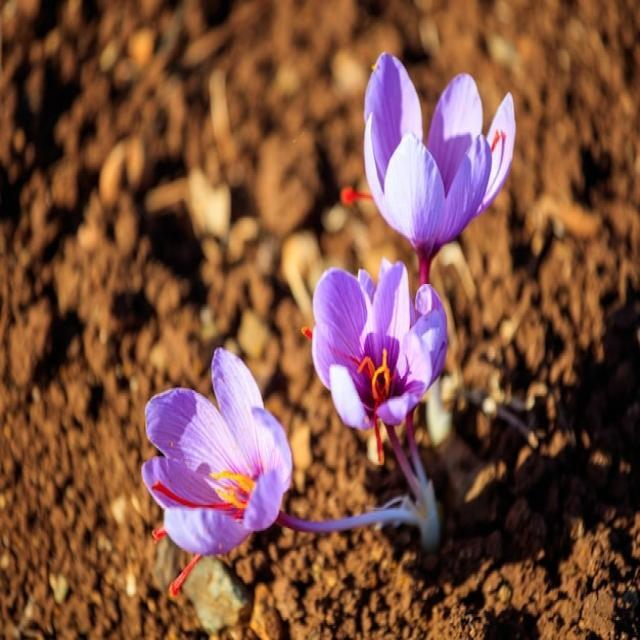Flower: (364, 46, 522, 263), (141, 344, 293, 560), (312, 261, 454, 438)
stigma: (362, 357, 394, 466), (150, 483, 238, 512), (168, 546, 208, 601), (339, 181, 372, 212)
